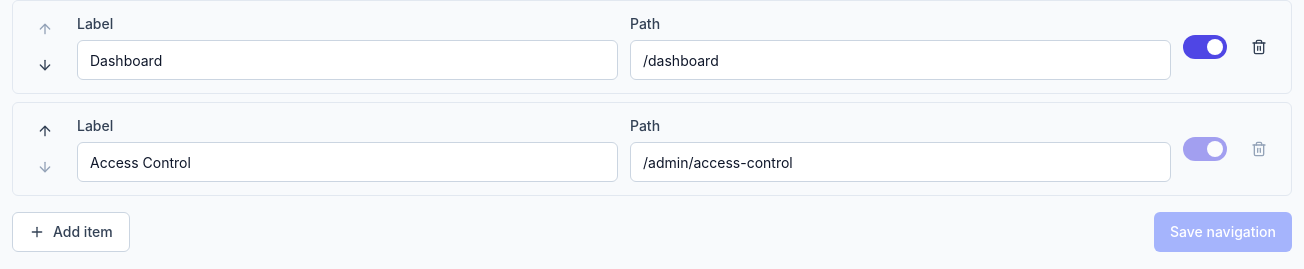
Test case: NavConfigEditor › Save is disabled until a field changes, and enabled once the draft is dirty
Expected: the button "Save navigation" is disabled, [1154, 212, 1292, 252]
Type " Home" into the 1st field showing "Dashboard". click: [348, 60]
box: [77, 40, 618, 80]
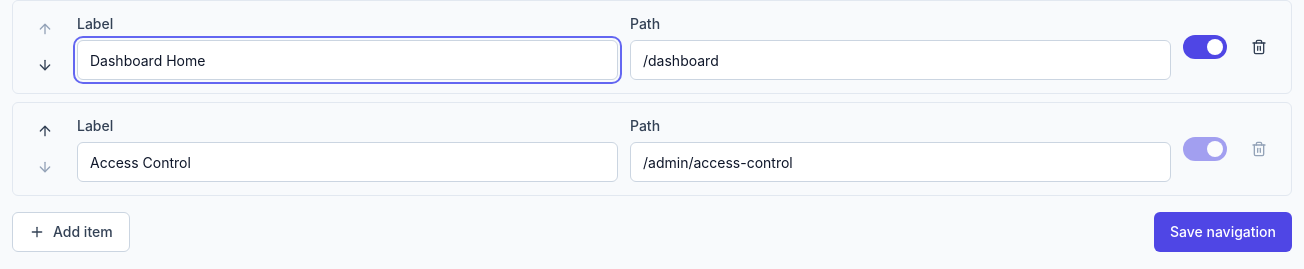
Now the button "Save navigation" is enabled, box [1154, 212, 1292, 252]
